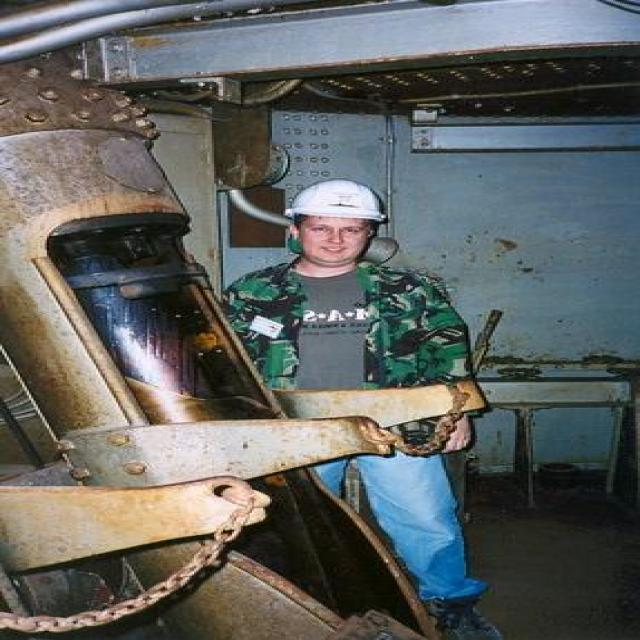Safety-Helmet: (274, 174, 395, 226)
